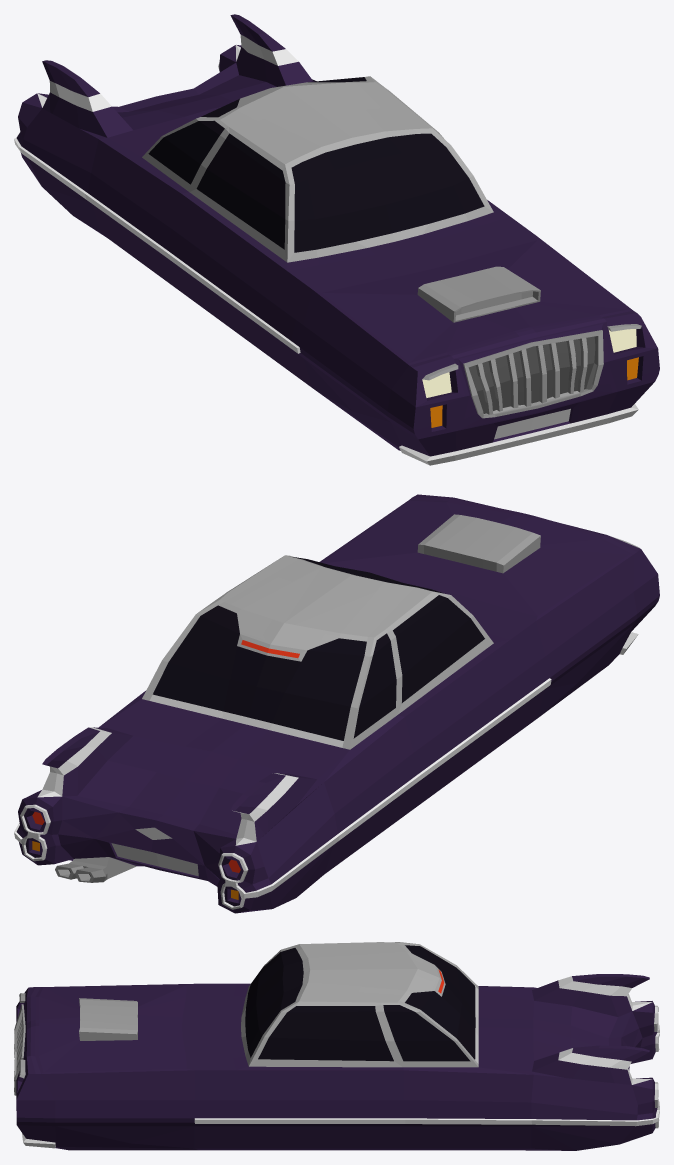
File: MainCar.glb
3 views of the same model, one above another, from view 1: azimuth 30°, elevation 25°; view 2: azimuth 150°, elevation 25°; view 3: azimuth 270°, elevation 25° (orthographic). The views are drawn at different scales.
Visible parts, largest first — view 1: Cube; view 2: Cube; view 3: Cube.
Boxes of the visible parts, bbox=[...] form: Cube: bbox=[14, 14, 659, 465]; Cube: bbox=[14, 494, 659, 913]; Cube: bbox=[14, 942, 659, 1150].
Bounding box in the file's own units: 5.41 × 3.74 × 14.95.
1 material, 1 textured.
